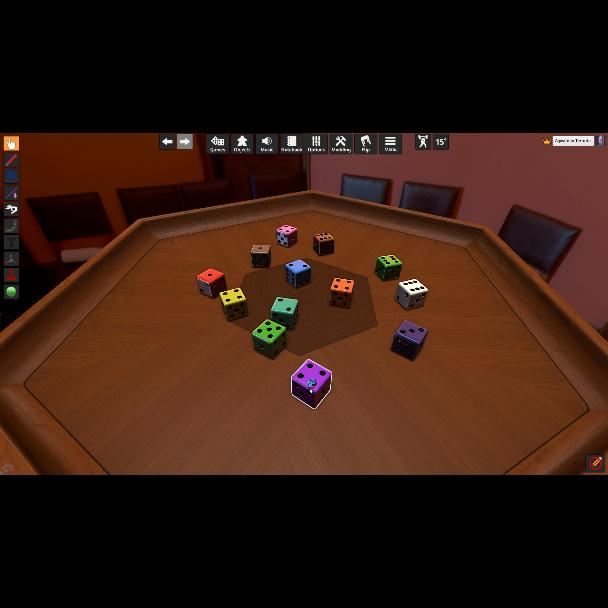d6: (290, 360, 332, 408), (392, 320, 428, 360), (252, 319, 286, 358), (394, 278, 425, 310), (270, 297, 298, 331), (219, 289, 247, 322), (196, 268, 226, 298), (284, 259, 310, 289), (329, 278, 353, 308), (375, 256, 401, 282), (250, 245, 272, 269), (312, 233, 334, 257), (276, 224, 298, 248)
